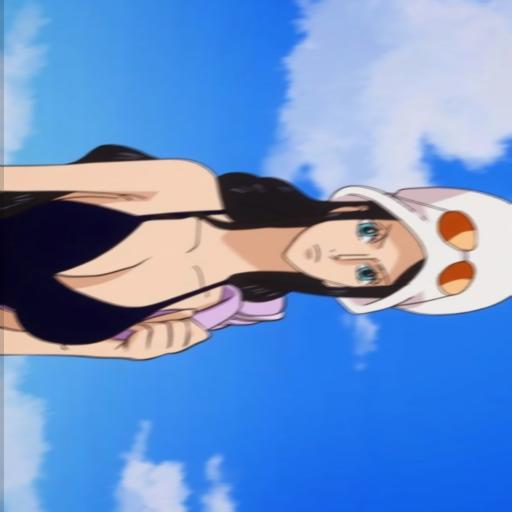NicoRobin: (0, 149, 512, 366)
